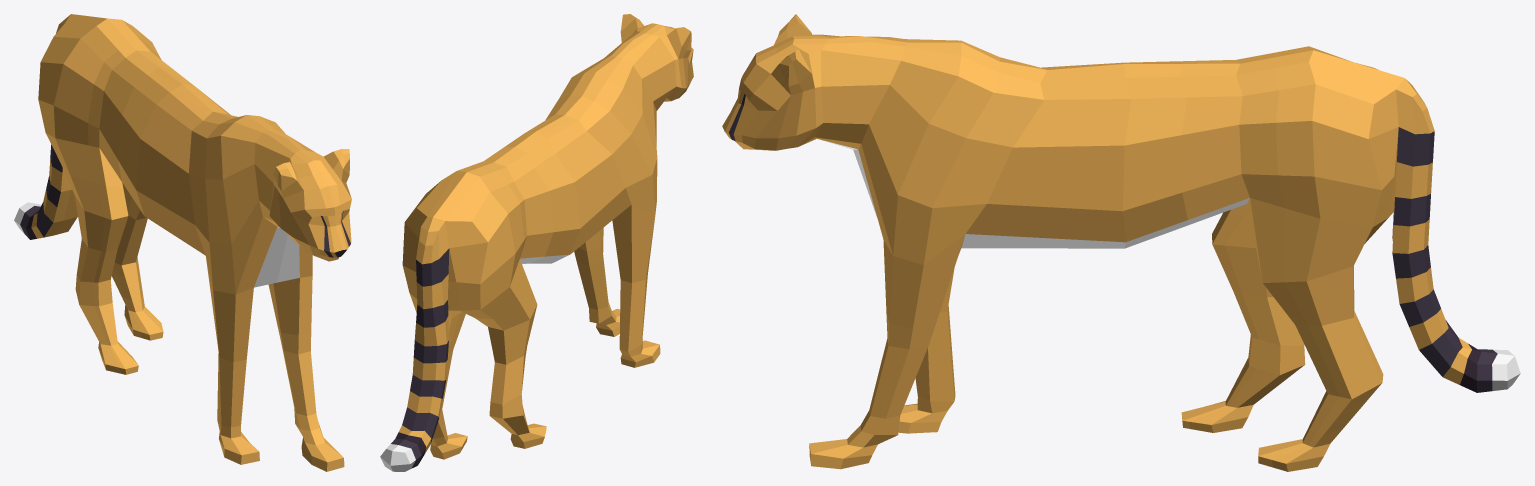
File: Gepard1.fbx
The picture shows the model from 3 angles, left to right: view 1: azimuth 30°, elevation 25°; view 2: azimuth 150°, elevation 25°; view 3: azimuth 270°, elevation 25°; orthographic projection. The views are drawn at different scales.
Parts seen in each view (by area): view 1: Gepard.002; view 2: Gepard.002; view 3: Gepard.002.
Part boxes in pixels (x1,y1,x2,y2): Gepard.002: [14, 14, 351, 471]; Gepard.002: [380, 14, 693, 471]; Gepard.002: [722, 14, 1520, 471].
Size of the model in its own units: 0.4293 by 1.26 by 2.22.
